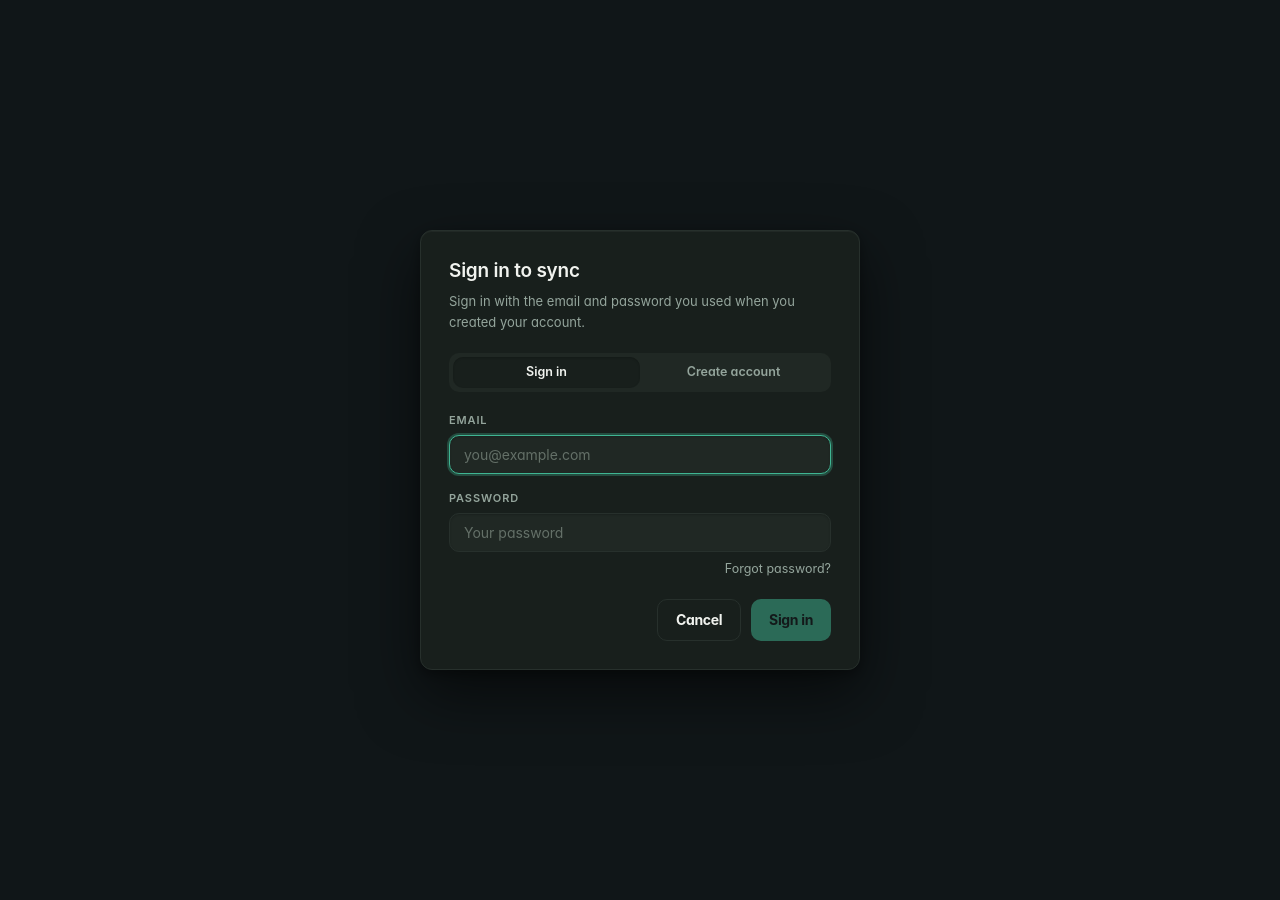
it: SignInDialog — sign-in flow › a wrong password surfaces an inline error on the email field and keeps the dialog open
This screenshot has width=1280, height=900.
Step 1. Type "a@b.com" into the field named "email" → [640, 454], box [449, 434, 831, 474]
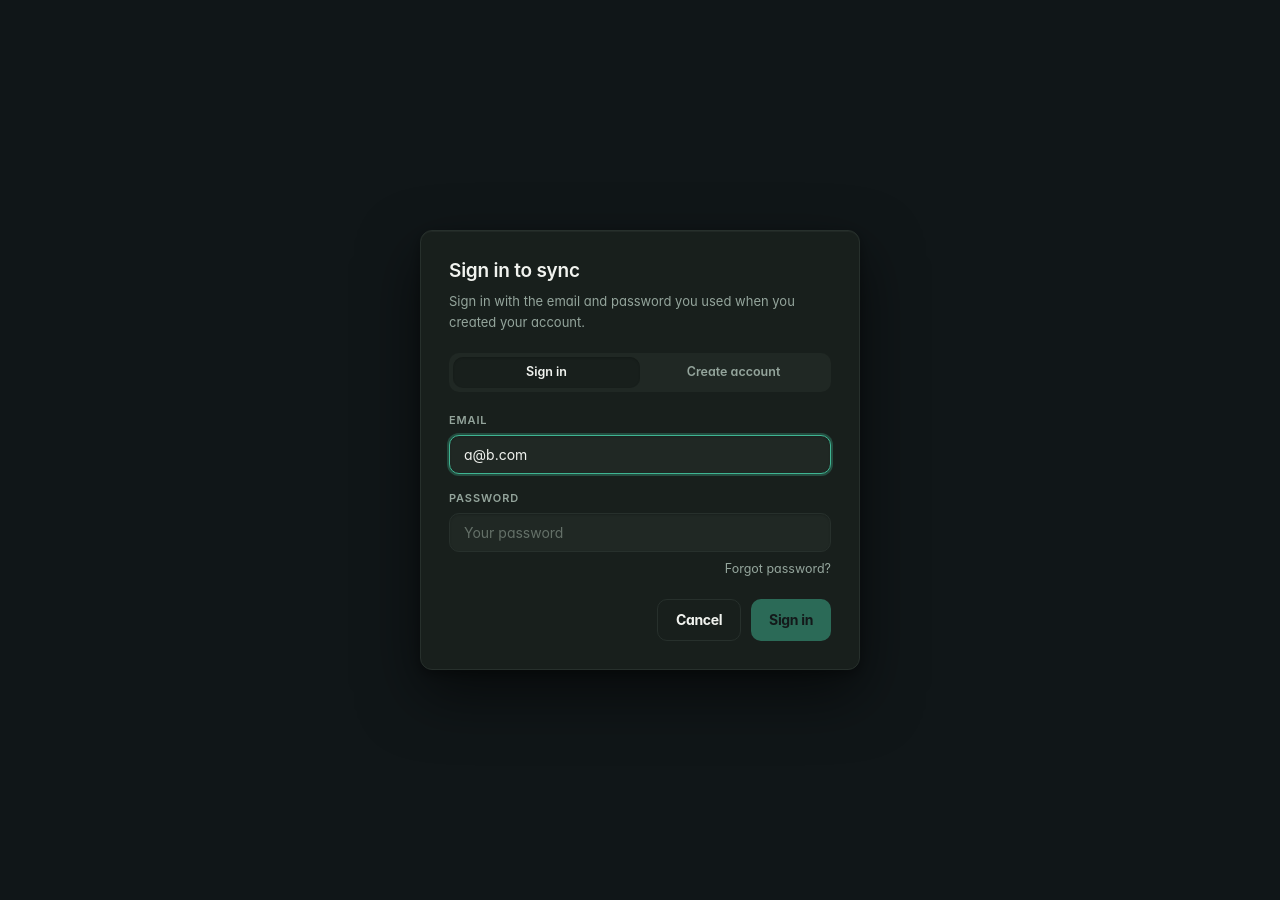
Step 2. Type "wrong-pw" into the password field labelled "Your password" → [640, 532], box [449, 512, 831, 552]
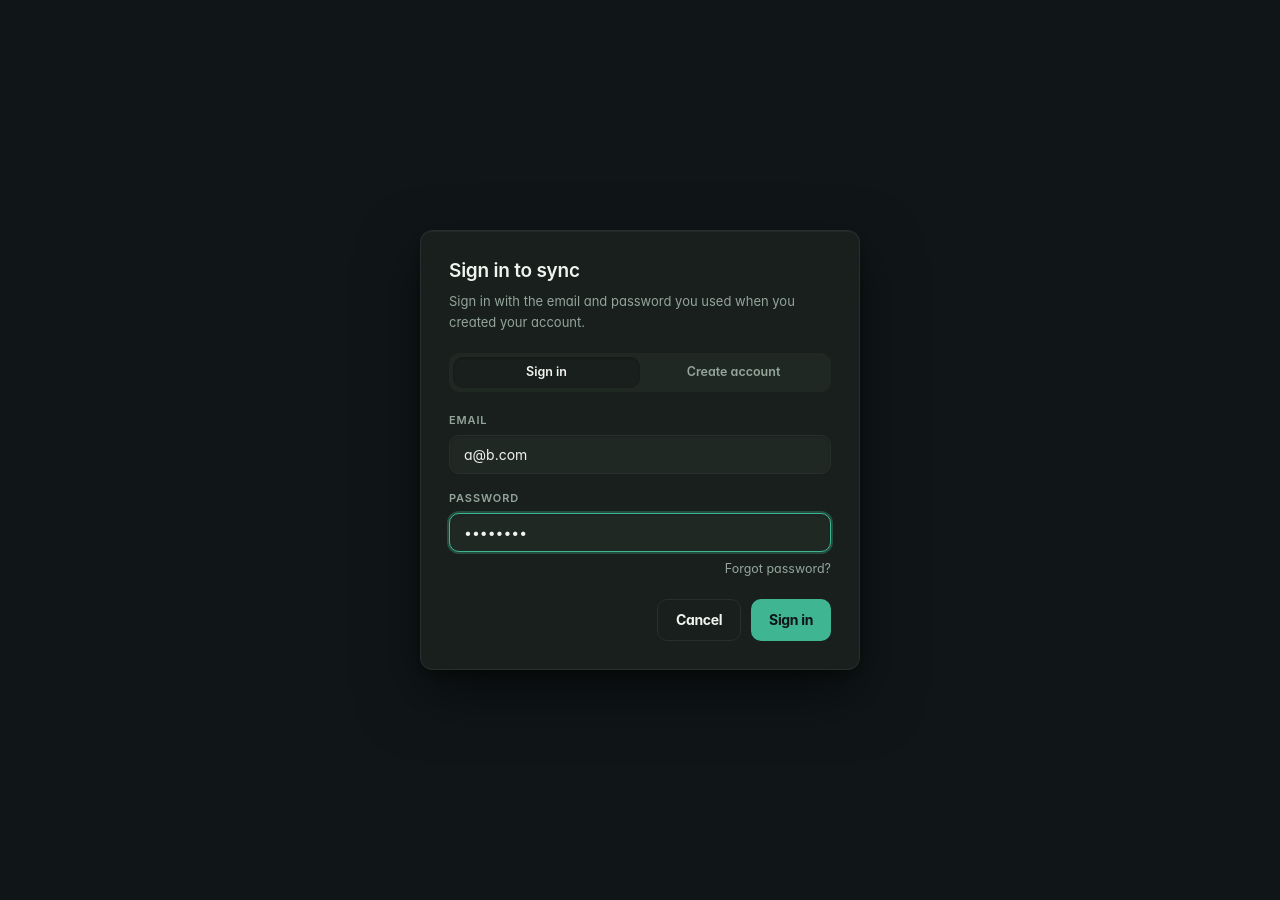
Step 3. Click the button "Sign in" → [791, 620], box [751, 599, 831, 641]
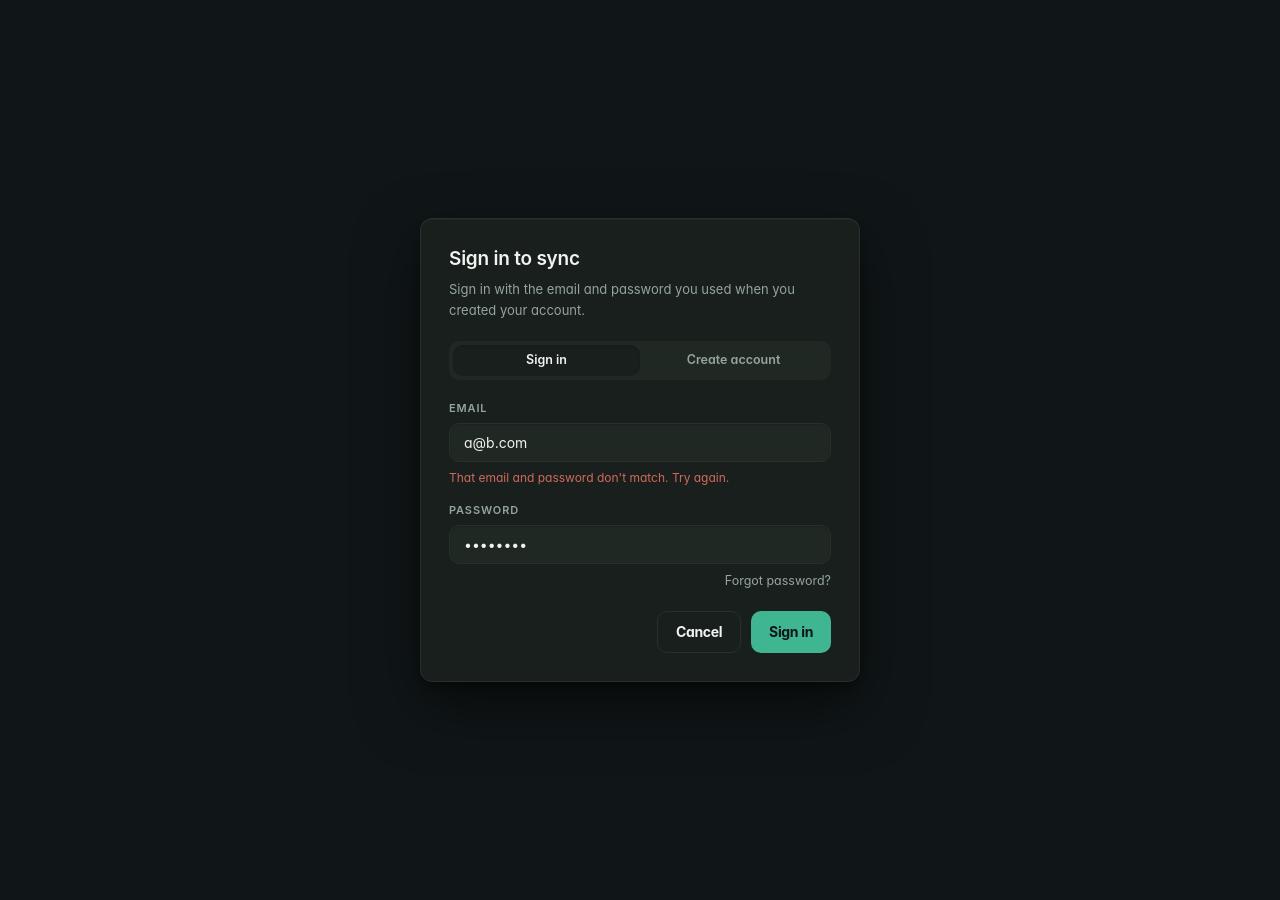
Check: the text "That email and password don't match. Try again." is shown, box [449, 470, 729, 485]
